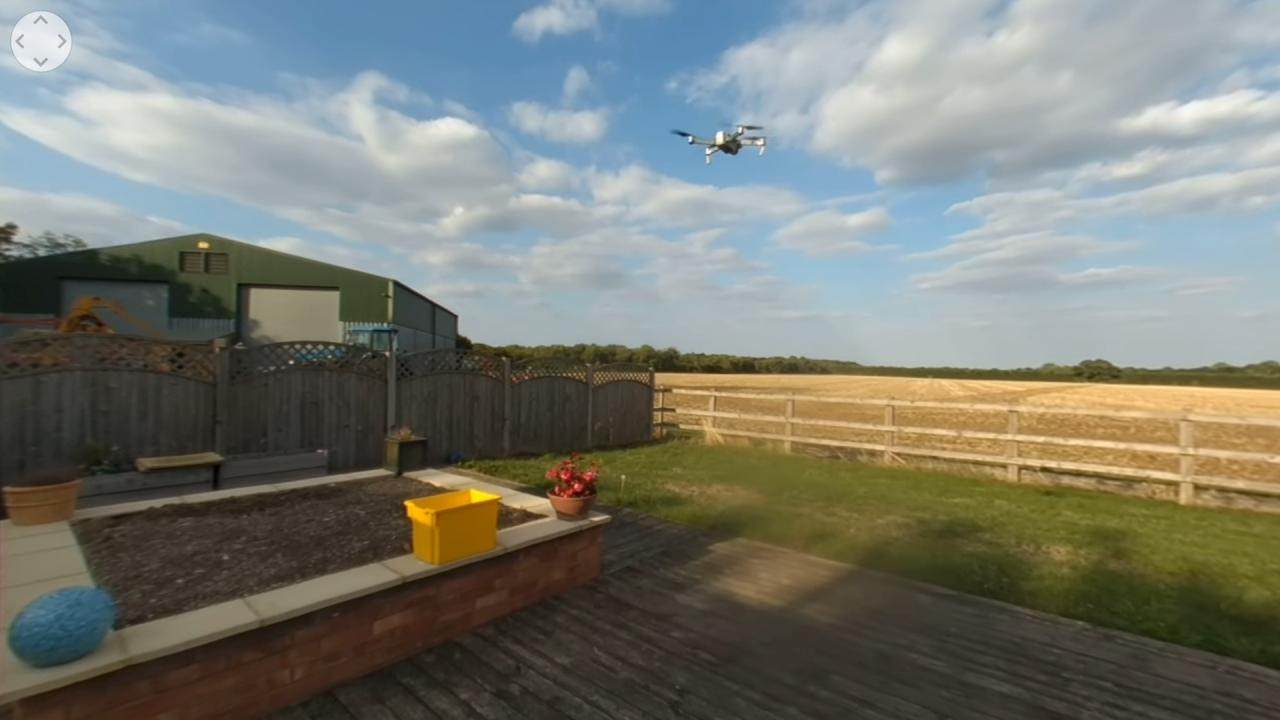Drone: (664, 112, 776, 169)
